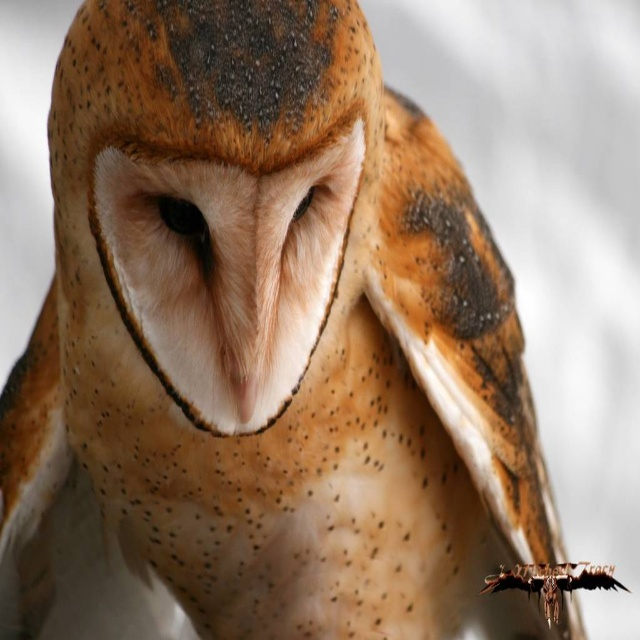Owl: (0, 0, 584, 639)
